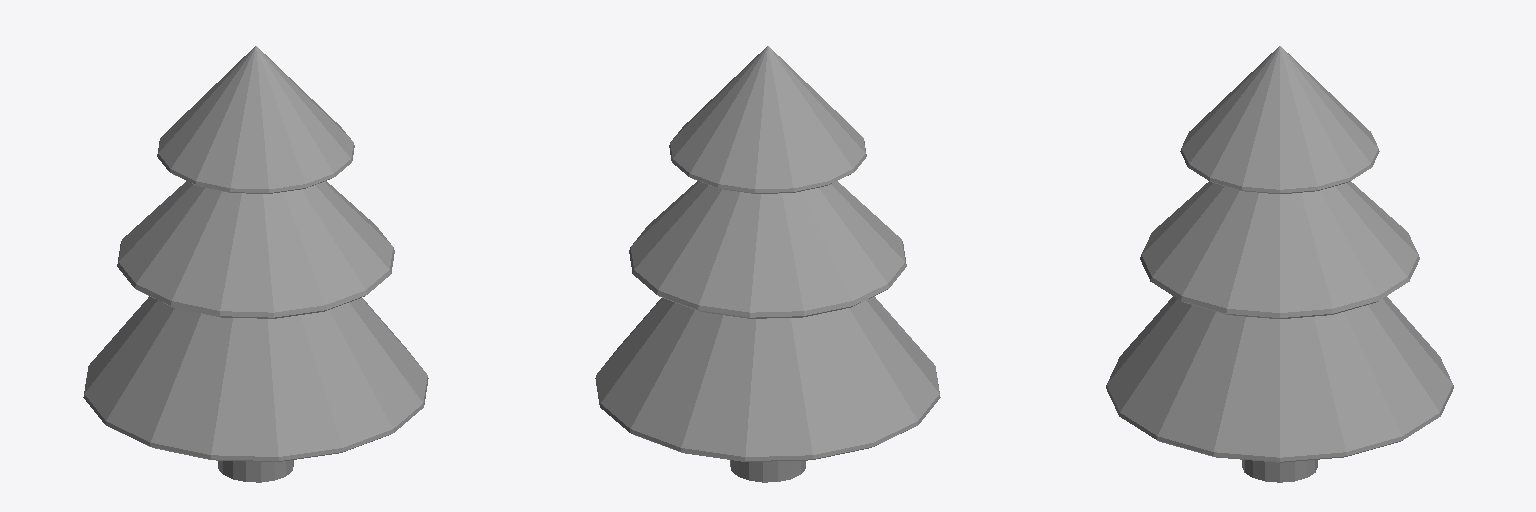
File: why_tree_why.obj
The picture shows the model from 3 angles: view 1: azimuth 30°, elevation 25°; view 2: azimuth 150°, elevation 25°; view 3: azimuth 270°, elevation 25°; orthographic projection.
Parts seen in each view (by area): view 1: Tree_Cylinder.002; view 2: Tree_Cylinder.002; view 3: Tree_Cylinder.002.
Part boxes in pixels (left/top/right/bottom): Tree_Cylinder.002: left=83, top=46, right=428, bottom=482; Tree_Cylinder.002: left=595, top=46, right=940, bottom=482; Tree_Cylinder.002: left=1106, top=46, right=1453, bottom=482.
Bounding box in the file's own units: 4.64 × 6.19 × 4.64.